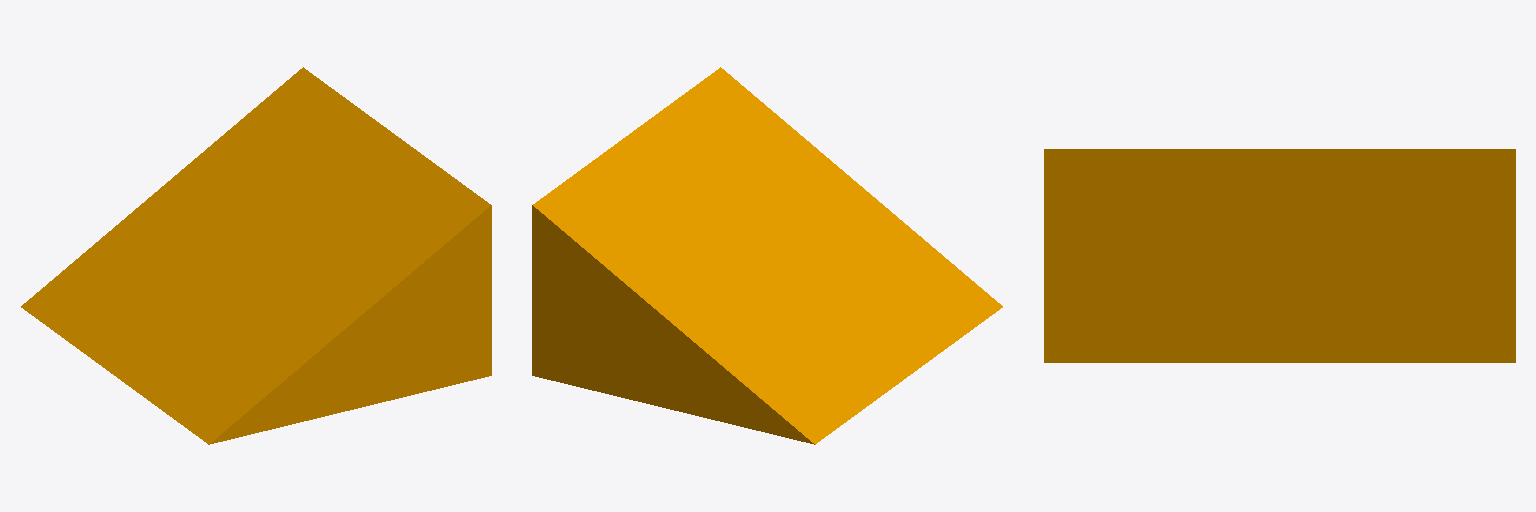
The robot description file, URDF, robot "jump30deg":
<?xml version="1.0"?>

<robot name="jump30deg">
  <gazebo>
    <static>true</static>
  </gazebo>
  <link name="jump30deg_link">
    <origin pose="0 0 0 0 0 0"/>
    <collision name="jump22deg_collision">
      <geometry>
        <mesh filename="package://ackermann_vehicle_description/urdf/jump30deg.stl" scale="0.01 0.01 0.01" />
      </geometry>
    </collision>
    
    <visual name="jump22deg_visual" cast_shadows="false">
      <geometry>
        <mesh filename="package://ackermann_vehicle_description/urdf/jump30deg.stl" scale="0.01 0.01 0.01" />
      </geometry>
    </visual>
    <inertial>
      <origin xyz="0 0 0" />
      <mass value="1000000000.0" />
      <inertia  ixx="1.0" ixy="0.0"  ixz="0.0"  iyy="100.0"  iyz="0.0"  izz="1.0" />
    </inertial>
  </link>
  <gazebo reference="jump30deg_link">
    <material>Gazebo/Grey</material>
    <mu1>0.6</mu1>
    <mu2>0.6</mu2>
  </gazebo>
  
</robot>

--- Render facts (derived) ---
The picture shows the robot from 3 angles, left to right: view 1: azimuth 30°, elevation 25°; view 2: azimuth 150°, elevation 25°; view 3: azimuth 270°, elevation 25°; orthographic projection.
Robot: jump30deg — 1 links, 0 joints (none); root link jump30deg_link; default pose: every joint at zero.
Visible links, largest first — view 1: jump30deg_link; view 2: jump30deg_link; view 3: jump30deg_link.
Boxes of the visible links, <box> form: jump30deg_link: <box>21,67,491,444</box>; jump30deg_link: <box>532,67,1002,444</box>; jump30deg_link: <box>1044,149,1515,362</box>.
Size in the robot's own frame: 1.06 by 1.22 by 0.6096 metres.
1 mesh visuals loaded from 1 distinct referenced files (1 binary STL).
